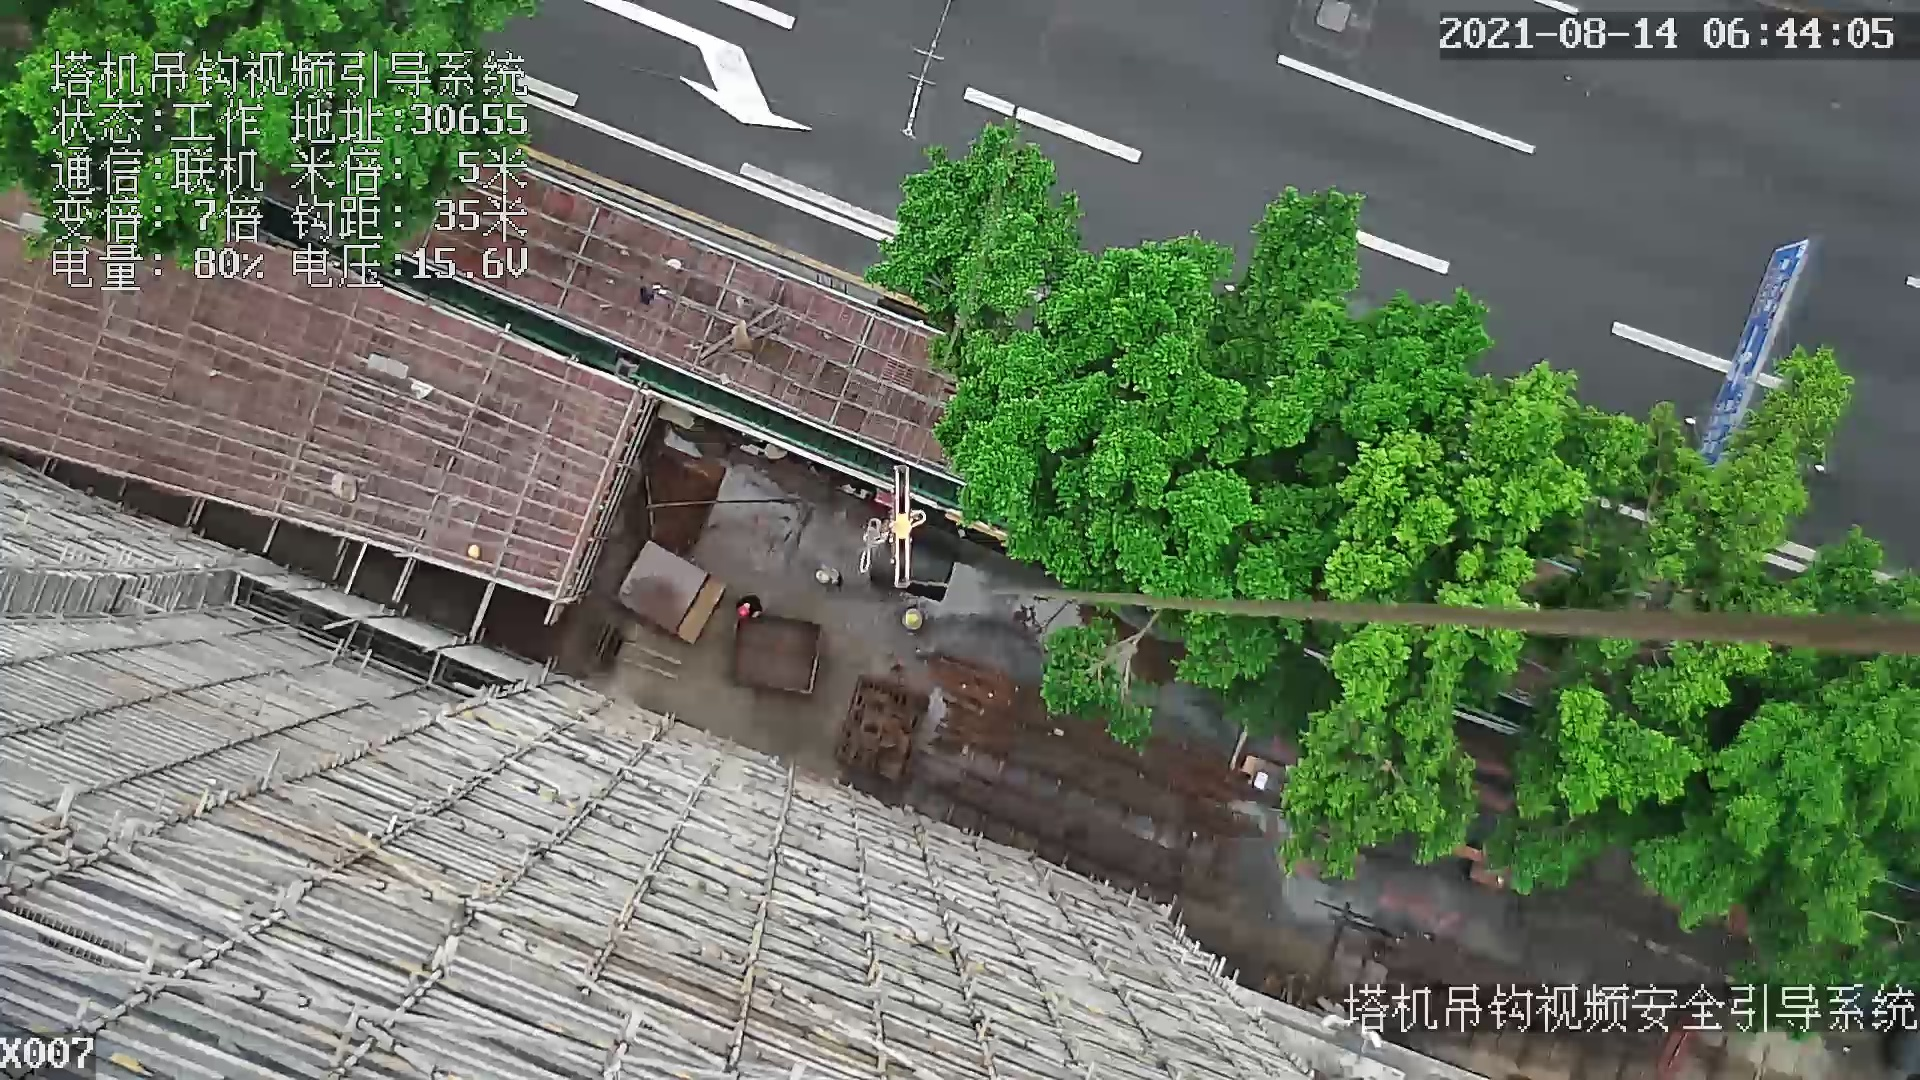helmet: (468, 544, 481, 561), (907, 612, 918, 625), (736, 607, 749, 616)
hook: (881, 463, 928, 589)
person: (735, 591, 762, 623), (822, 562, 847, 590), (897, 606, 922, 632)
